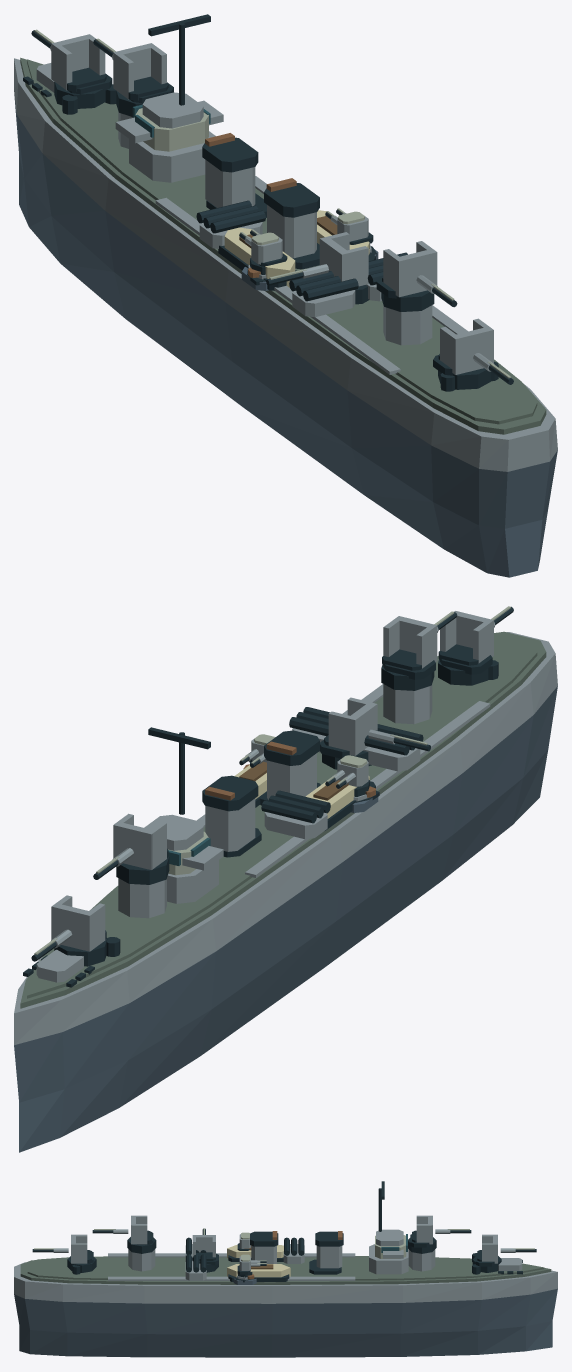
Rendered from historic-le-fantasque.glb.
3 views of the same model, one above another, from view 1: azimuth 30°, elevation 25°; view 2: azimuth 150°, elevation 25°; view 3: azimuth 270°, elevation 25° (orthographic). The views are drawn at different scales.
Parts seen in each view (by area): view 1: historic-le-fantasque-historic-le-fantasque-geometry, historic-le-fantasque-part_bridge.045-geometry, historic-le-fantasque-historic_funnel_1.022-geometry, historic-le-fantasque-turret_main_0.035-geometry, historic-le-fantasque-historic_funnel_0.046-geometry, historic-le-fantasque-turret_main_3.017-geometry, historic-le-fantasque-turret_main_4.003-geometry, historic-le-fantasque-turret_main_1.034-geometry, historic-le-fantasque-turret_main_2.030-geometry, historic-le-fantasque-torpedo_bank_0.009-geometry, historic-le-fantasque-torpedo_bank_2.003-geometry, historic-le-fantasque-turret_aa_aa-port.047-geometry (+1 smaller); view 2: historic-le-fantasque-historic-le-fantasque-geometry, historic-le-fantasque-part_bridge.045-geometry, historic-le-fantasque-turret_main_3.017-geometry, historic-le-fantasque-historic_funnel_0.046-geometry, historic-le-fantasque-turret_main_4.003-geometry, historic-le-fantasque-turret_main_1.034-geometry, historic-le-fantasque-turret_main_2.030-geometry, historic-le-fantasque-turret_main_0.035-geometry, historic-le-fantasque-historic_funnel_1.022-geometry, historic-le-fantasque-torpedo_bank_2.003-geometry, historic-le-fantasque-torpedo_bank_0.009-geometry, historic-le-fantasque-turret_aa_aa-port.047-geometry (+1 smaller); view 3: historic-le-fantasque-historic-le-fantasque-geometry, historic-le-fantasque-part_bridge.045-geometry, historic-le-fantasque-historic_funnel_0.046-geometry, historic-le-fantasque-turret_main_3.017-geometry, historic-le-fantasque-turret_main_1.034-geometry, historic-le-fantasque-turret_main_4.003-geometry, historic-le-fantasque-turret_main_0.035-geometry, historic-le-fantasque-historic_funnel_1.022-geometry, historic-le-fantasque-turret_main_2.030-geometry, historic-le-fantasque-torpedo_bank_1.008-geometry, historic-le-fantasque-torpedo_bank_2.003-geometry, historic-le-fantasque-turret_aa_aa-starboard.045-geometry.
Boxes of the visible parts, bbox=[...] form: historic-le-fantasque-historic-le-fantasque-geometry: bbox=[14, 57, 557, 577]; historic-le-fantasque-part_bridge.045-geometry: bbox=[115, 14, 223, 182]; historic-le-fantasque-historic_funnel_1.022-geometry: bbox=[264, 178, 319, 269]; historic-le-fantasque-turret_main_0.035-geometry: bbox=[31, 29, 112, 108]; historic-le-fantasque-historic_funnel_0.046-geometry: bbox=[202, 133, 266, 217]; historic-le-fantasque-turret_main_3.017-geometry: bbox=[376, 241, 457, 311]; historic-le-fantasque-turret_main_4.003-geometry: bbox=[433, 318, 513, 389]; historic-le-fantasque-turret_main_1.034-geometry: bbox=[93, 38, 173, 116]; historic-le-fantasque-turret_main_2.030-geometry: bbox=[266, 232, 368, 304]; historic-le-fantasque-torpedo_bank_0.009-geometry: bbox=[289, 271, 358, 317]; historic-le-fantasque-torpedo_bank_2.003-geometry: bbox=[196, 200, 265, 248]; historic-le-fantasque-turret_aa_aa-port.047-geometry: bbox=[239, 229, 287, 274]; historic-le-fantasque-historic-le-fantasque-geometry: bbox=[14, 631, 557, 1152]; historic-le-fantasque-part_bridge.045-geometry: bbox=[144, 727, 223, 903]; historic-le-fantasque-turret_main_3.017-geometry: bbox=[381, 611, 457, 690]; historic-le-fantasque-historic_funnel_0.046-geometry: bbox=[202, 775, 261, 857]; historic-le-fantasque-turret_main_4.003-geometry: bbox=[438, 606, 513, 685]; historic-le-fantasque-turret_main_1.034-geometry: bbox=[93, 813, 169, 884]; historic-le-fantasque-turret_main_2.030-geometry: bbox=[320, 697, 430, 769]; historic-le-fantasque-turret_main_0.035-geometry: bbox=[31, 895, 107, 966]; historic-le-fantasque-historic_funnel_1.022-geometry: bbox=[259, 730, 320, 805]; historic-le-fantasque-torpedo_bank_2.003-geometry: bbox=[261, 790, 330, 839]; historic-le-fantasque-torpedo_bank_0.009-geometry: bbox=[363, 724, 423, 771]; historic-le-fantasque-turret_aa_aa-port.047-geometry: bbox=[325, 755, 369, 796]; historic-le-fantasque-historic-le-fantasque-geometry: bbox=[14, 1245, 557, 1357]; historic-le-fantasque-part_bridge.045-geometry: bbox=[369, 1181, 408, 1274]; historic-le-fantasque-historic_funnel_0.046-geometry: bbox=[309, 1231, 343, 1274]; historic-le-fantasque-turret_main_3.017-geometry: bbox=[92, 1215, 156, 1253]; historic-le-fantasque-turret_main_1.034-geometry: bbox=[408, 1215, 471, 1253]; historic-le-fantasque-turret_main_4.003-geometry: bbox=[32, 1234, 96, 1272]; historic-le-fantasque-turret_main_0.035-geometry: bbox=[472, 1234, 536, 1272]; historic-le-fantasque-historic_funnel_1.022-geometry: bbox=[250, 1231, 278, 1263]; historic-le-fantasque-turret_main_2.030-geometry: bbox=[192, 1228, 218, 1272]; historic-le-fantasque-torpedo_bank_1.008-geometry: bbox=[185, 1254, 206, 1280]; historic-le-fantasque-torpedo_bank_2.003-geometry: bbox=[283, 1237, 304, 1263]; historic-le-fantasque-turret_aa_aa-starboard.045-geometry: bbox=[237, 1254, 266, 1277].
Bounding box in the file's own units: 0.6572 × 1.32 × 4.11.
